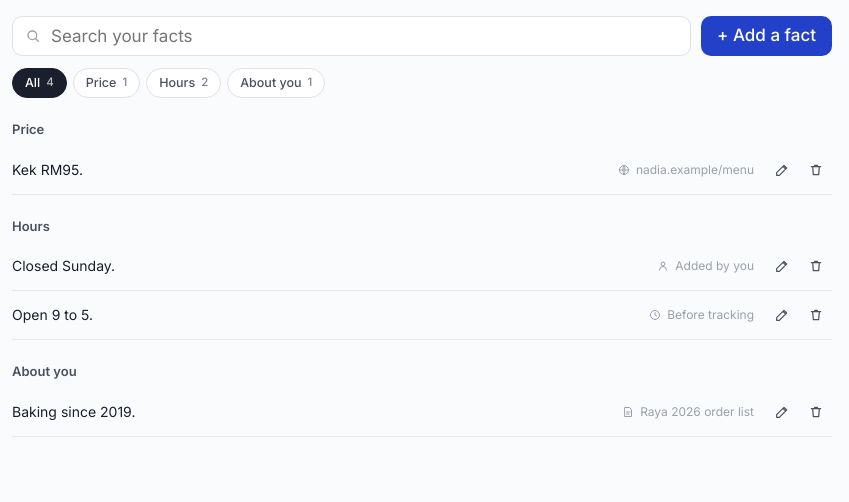
Scenario: FactList › keeps the draft and says why when saving an edit fails
The width and height of the screenshot is (849, 502).
Step 1. Click the button named "Edit fact" in the row of "Kek RM95." → [782, 170], box [766, 154, 798, 186]
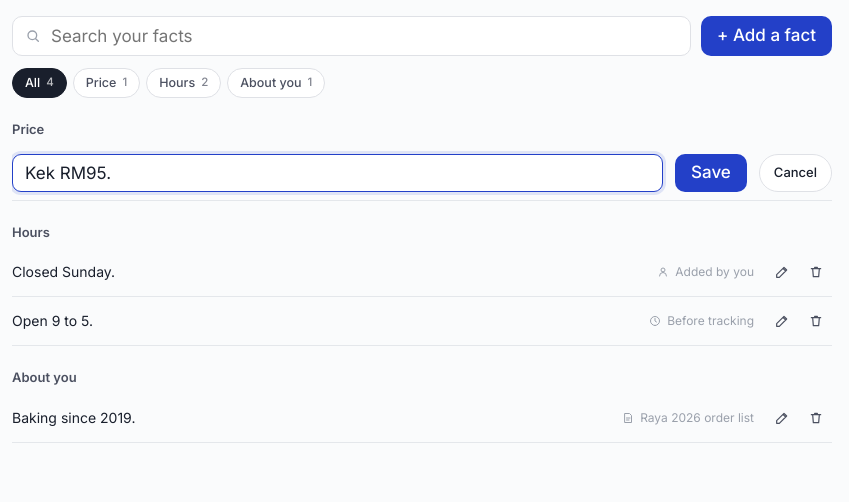
Step 2. Replace the text in the field named "Edit fact" with "Kek RM99." → [338, 172], box [12, 154, 663, 192]
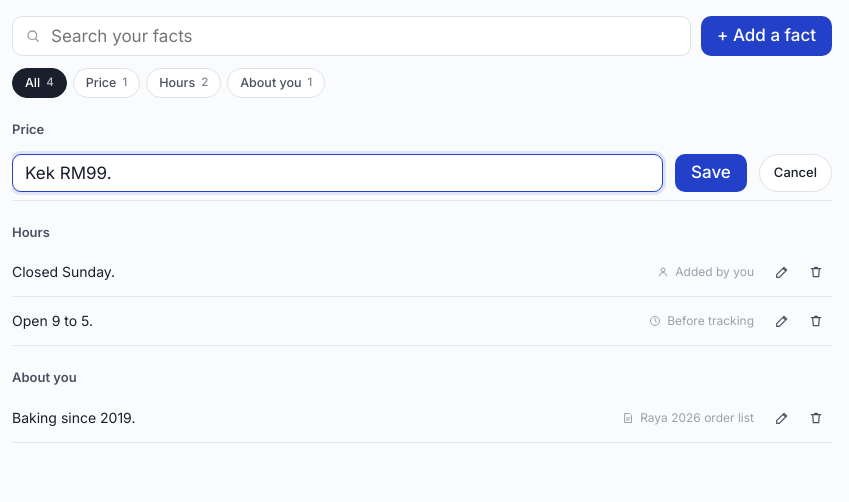
Step 3. Click the button "Save" → [711, 172], box [675, 154, 747, 192]
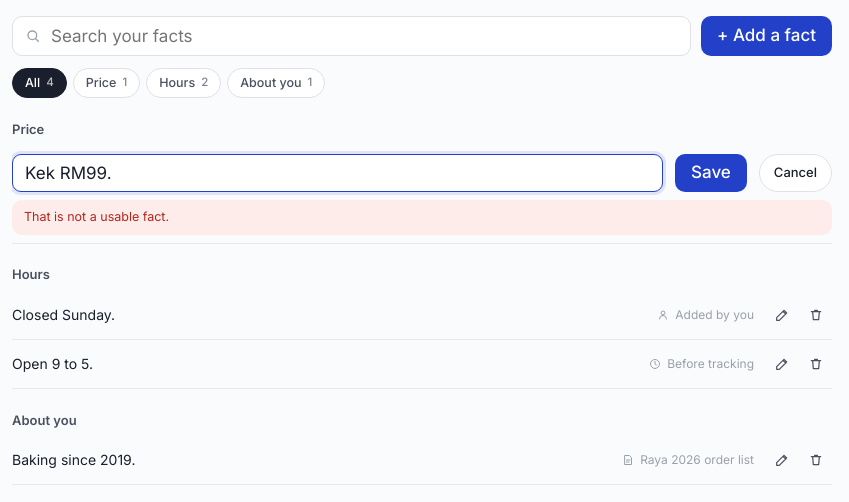
Expected: the text "That is not a usable fact." is shown, [12, 200, 832, 234]
